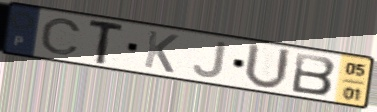B: (290, 51, 338, 97)
C: (39, 17, 84, 56)
J: (191, 40, 229, 80)
K: (141, 28, 181, 75)
T: (87, 19, 128, 66)
U: (241, 41, 293, 91)
